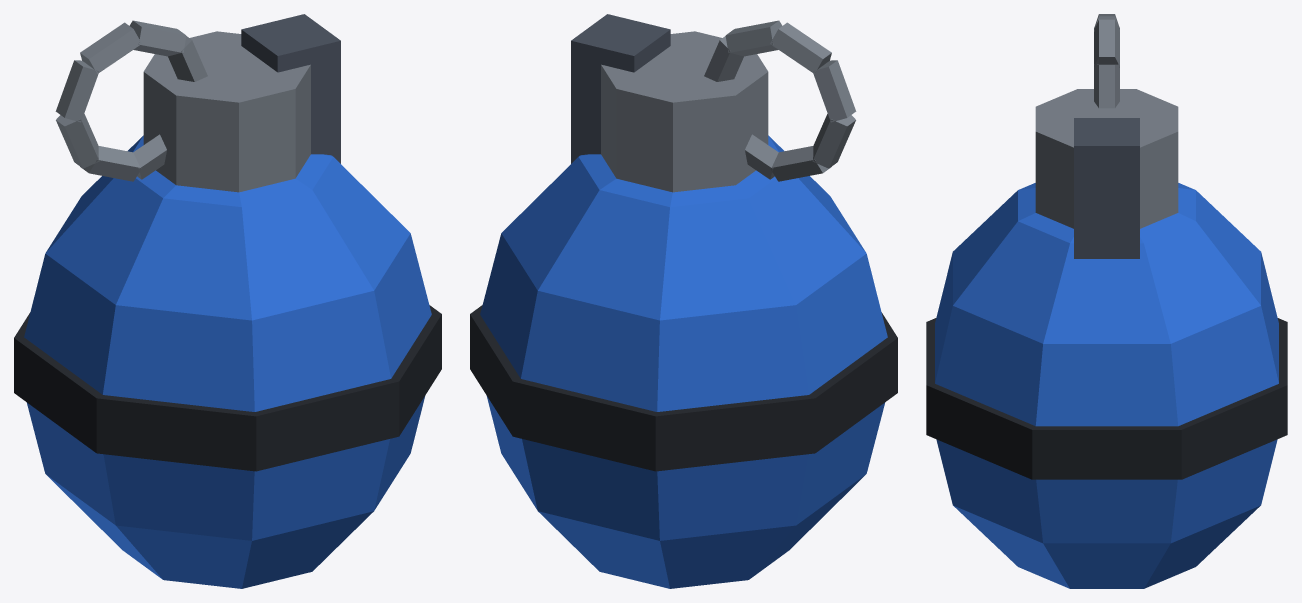
File: paint_grenade_blue.glb
The picture shows the model from 3 angles, left to right: view 1: azimuth 30°, elevation 25°; view 2: azimuth 150°, elevation 25°; view 3: azimuth 270°, elevation 25°; orthographic projection. The views are drawn at different scales.
Parts seen in each view (by area): view 1: paint_grenade_blue; view 2: paint_grenade_blue; view 3: paint_grenade_blue.
Part boxes in pixels (x1=…): paint_grenade_blue: x1=14, y1=14, x2=441, y2=588; paint_grenade_blue: x1=470, y1=14, x2=897, y2=588; paint_grenade_blue: x1=926, y1=14, x2=1287, y2=588.
Size of the model in its own units: 0.0656 by 0.1039 by 0.0656.
